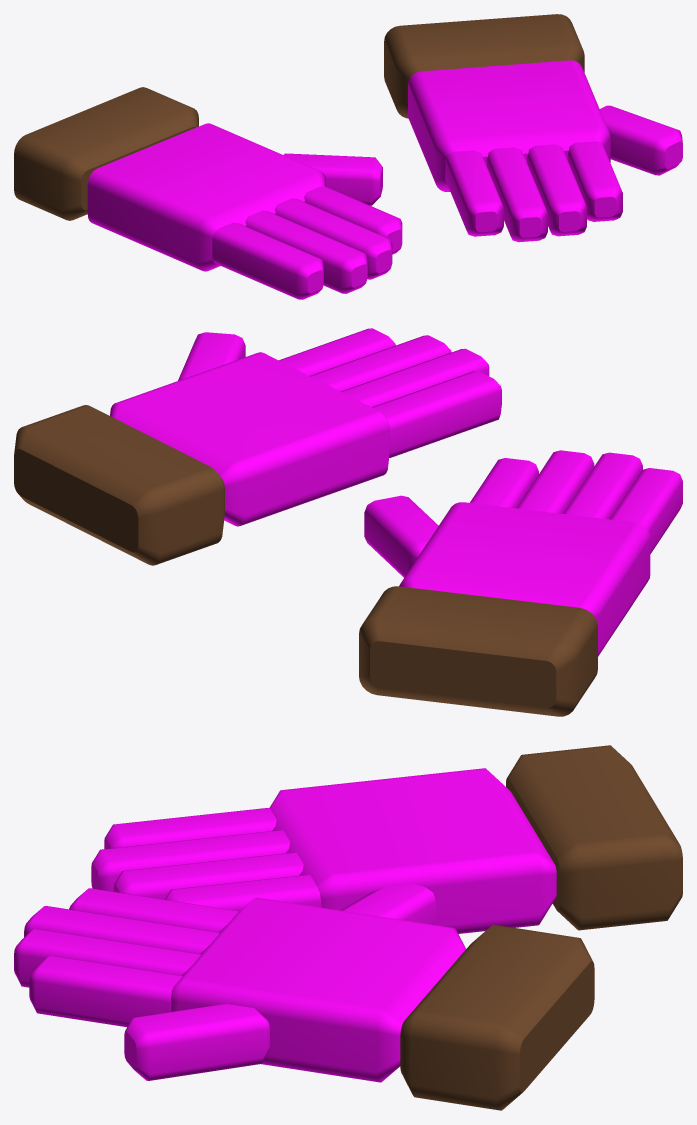
The model's file is objet_gants.glb.
The picture shows the model from 3 angles, top to bottom: view 1: azimuth 30°, elevation 25°; view 2: azimuth 150°, elevation 25°; view 3: azimuth 270°, elevation 25°; orthographic projection. The views are drawn at different scales.
Parts seen in each view (by area): view 1: gants_teinte.002, gants_sac_cuir.002; view 2: gants_teinte.002, gants_sac_cuir.002; view 3: gants_teinte.002, gants_sac_cuir.002.
Boxes of the visible parts, x1,y1,x2,y2 form: gants_teinte.002: (87, 60, 682, 299); gants_sac_cuir.002: (14, 14, 584, 220); gants_teinte.002: (110, 328, 682, 656); gants_sac_cuir.002: (14, 405, 597, 716); gants_teinte.002: (14, 768, 556, 1082); gants_sac_cuir.002: (400, 745, 682, 1110).
Size of the model in its own units: 0.2181 by 0.0385 by 0.1842.
